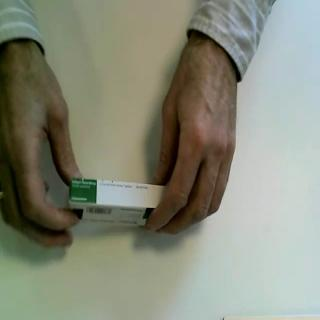nobligan_retard200mg: (67, 175, 169, 229)
